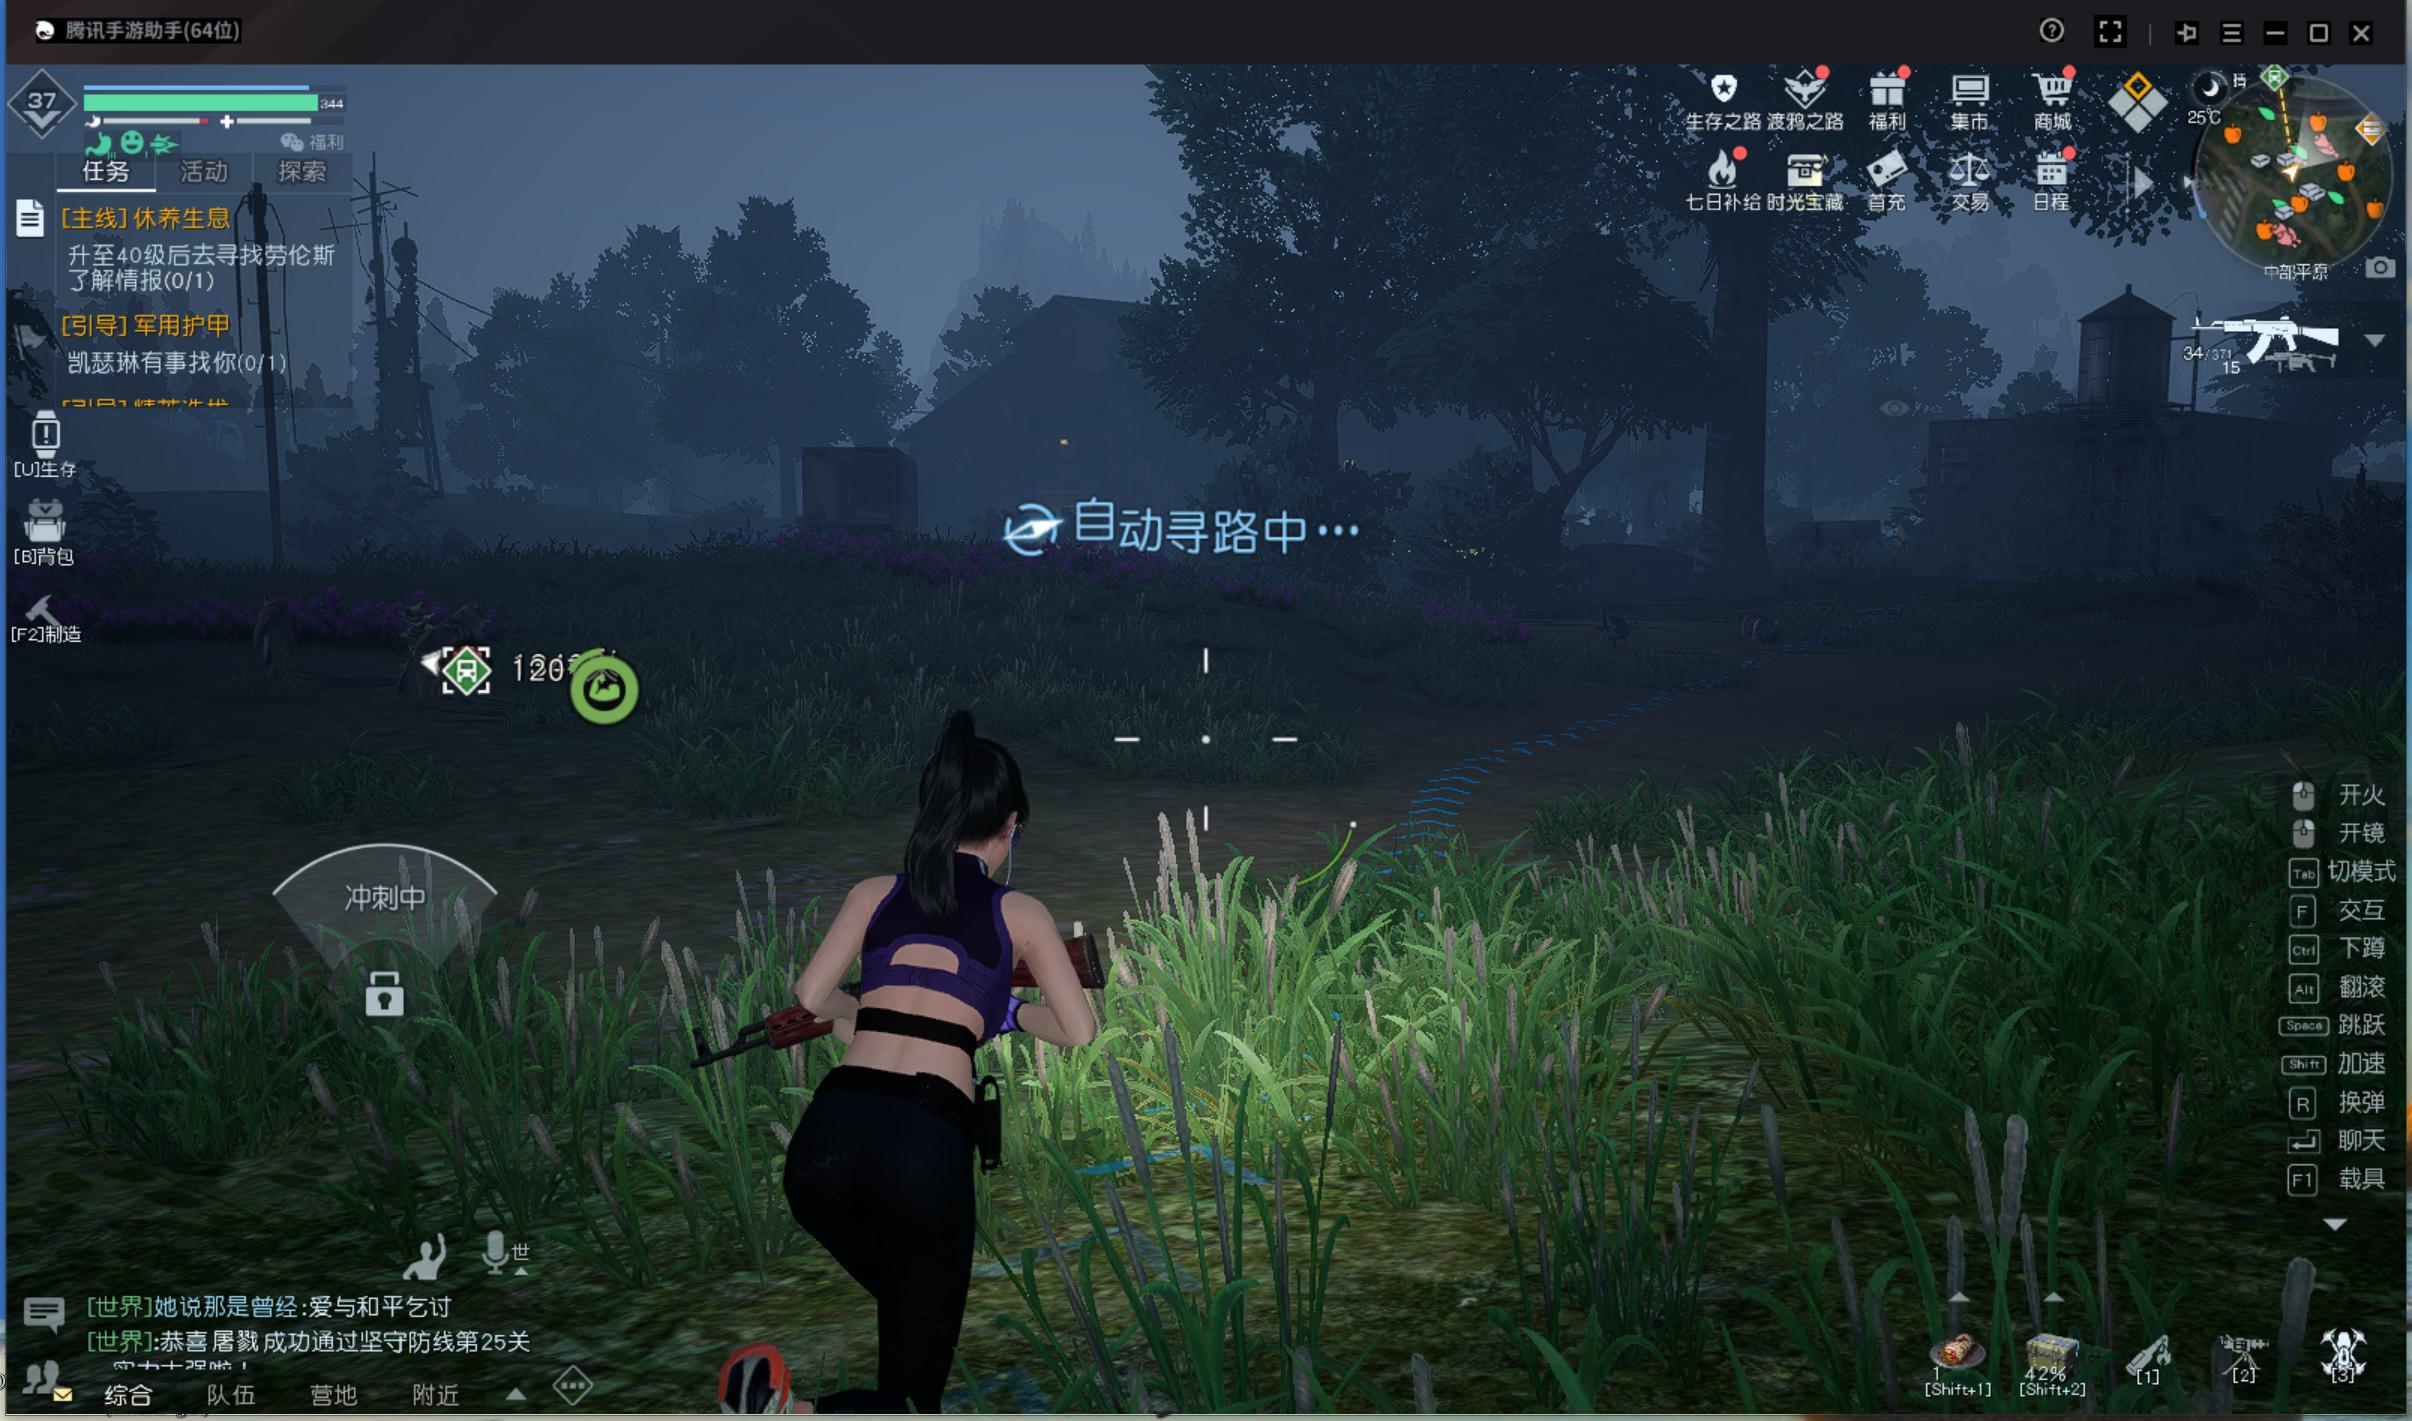tree: (1686, 267, 1783, 621), (1297, 398, 1368, 597)
